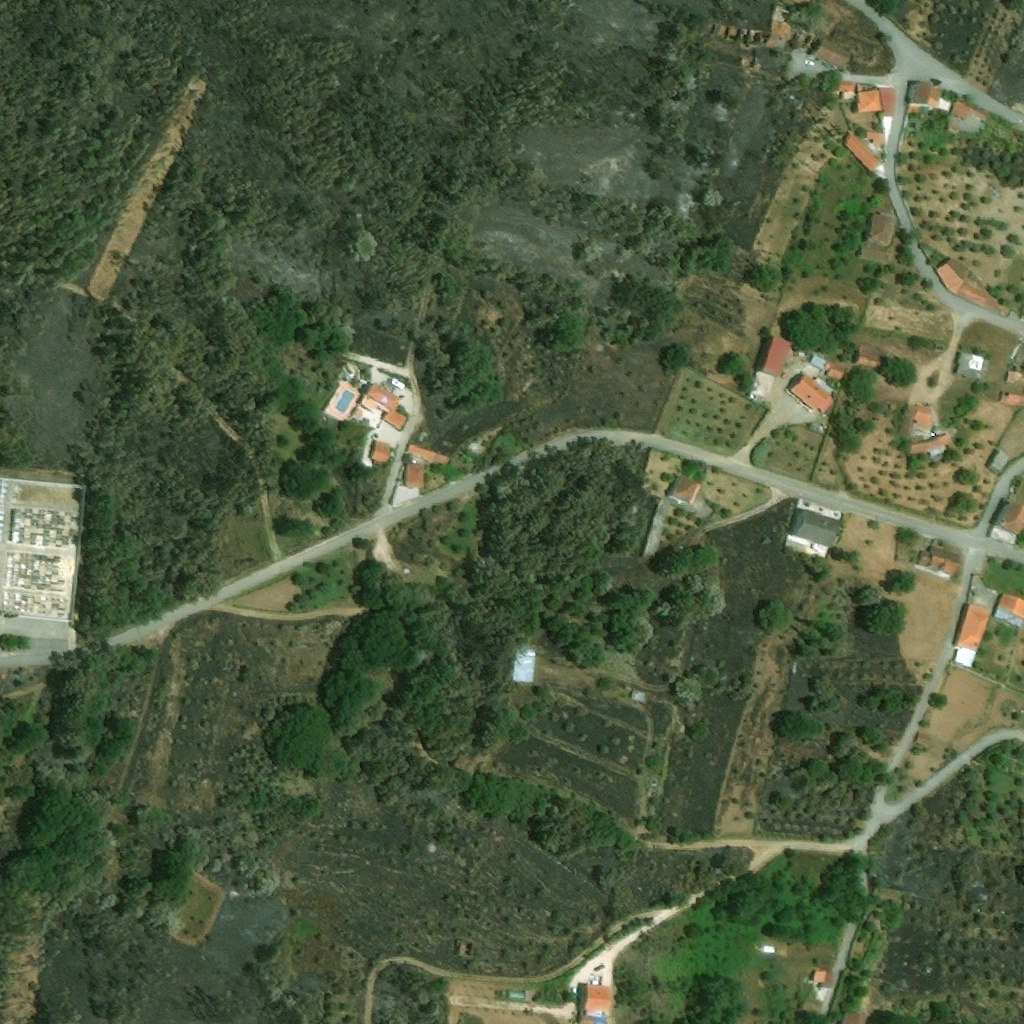0 no-damage: (782, 368, 837, 416), (788, 506, 845, 549), (953, 603, 991, 653), (838, 131, 883, 172), (762, 334, 796, 379), (918, 542, 963, 576), (813, 38, 853, 71), (668, 472, 704, 507), (406, 441, 452, 468), (510, 645, 538, 688), (993, 591, 1023, 627), (932, 262, 963, 296), (365, 379, 400, 408), (955, 281, 991, 308), (866, 213, 895, 246), (911, 431, 954, 453), (855, 344, 890, 371), (998, 498, 1023, 535), (956, 351, 987, 378), (582, 983, 613, 1009), (357, 391, 392, 413), (857, 243, 891, 265), (989, 524, 1020, 548), (384, 409, 411, 432), (984, 297, 1012, 318), (945, 257, 969, 281), (914, 404, 937, 429), (810, 965, 835, 988), (824, 360, 847, 384), (371, 439, 393, 464), (916, 81, 941, 103), (988, 448, 1011, 471), (856, 90, 880, 112), (405, 462, 425, 488), (950, 98, 973, 120), (969, 104, 994, 124), (881, 87, 898, 116), (953, 647, 975, 669), (808, 349, 830, 370), (771, 22, 795, 41), (900, 413, 916, 435), (1000, 391, 1023, 406), (771, 5, 791, 22), (380, 376, 400, 393), (903, 80, 918, 102), (814, 987, 831, 1006), (832, 80, 856, 93), (868, 141, 885, 159), (841, 1011, 866, 1023), (928, 445, 948, 459), (1006, 368, 1023, 384), (936, 98, 953, 113), (629, 689, 647, 703), (867, 130, 886, 143), (946, 119, 961, 135), (775, 946, 791, 958), (902, 402, 917, 414), (879, 211, 896, 218), (842, 92, 855, 100), (600, 975, 609, 984)
3 destroyed: (747, 28, 771, 49), (456, 937, 473, 959), (735, 27, 750, 47), (713, 24, 729, 40), (727, 23, 738, 43)
4 un-classified: (579, 1015, 606, 1023), (791, 0, 809, 7)
